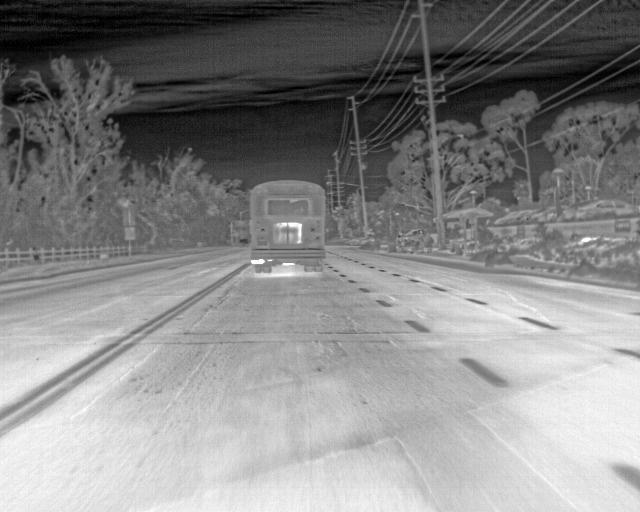car: (236, 235, 247, 248)
